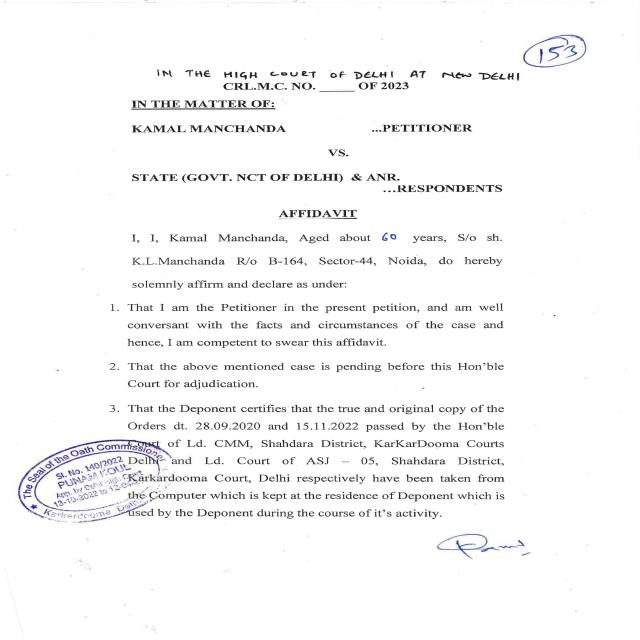page-number: (414, 3, 636, 69)
